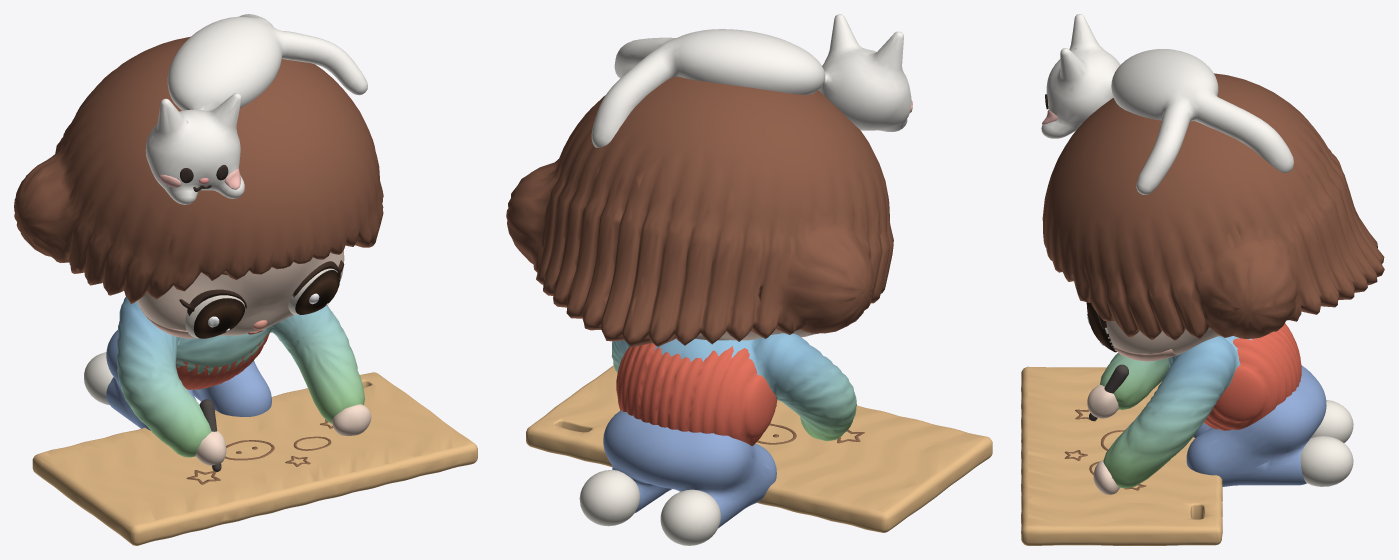
Rendered from reminiscence_roblox.glb.
The picture shows the model from 3 angles, left to right: view 1: azimuth 30°, elevation 25°; view 2: azimuth 150°, elevation 25°; view 3: azimuth 270°, elevation 25°; orthographic projection. The views are drawn at different scales.
Visible parts, largest first — view 1: Reminiscence_Hair, Reminiscence_Board, Reminiscence_Cat, Reminiscence_Sweater, Reminiscence_Head, Reminiscence_Pants, Reminiscence_Iris, Reminiscence_Hands, Reminiscence_Vest, Reminiscence_Shoes, Reminiscence_Lash, Reminiscence_Doodles (+1 smaller); view 2: Reminiscence_Hair, Reminiscence_Board, Reminiscence_Cat, Reminiscence_Vest, Reminiscence_Pants, Reminiscence_Sweater, Reminiscence_Shoes; view 3: Reminiscence_Hair, Reminiscence_Board, Reminiscence_Cat, Reminiscence_Sweater, Reminiscence_Pants, Reminiscence_Vest, Reminiscence_Shoes, Reminiscence_Head, Reminiscence_Hands, Reminiscence_Iris, Reminiscence_Crayon, Reminiscence_Blush.
Boxes of the visible parts, <box> form: Reminiscence_Hair: <box>14,36,383,303</box>; Reminiscence_Board: <box>32,372,477,545</box>; Reminiscence_Cat: <box>145,14,367,204</box>; Reminiscence_Sweater: <box>116,297,364,457</box>; Reminiscence_Head: <box>136,250,344,335</box>; Reminiscence_Pants: <box>106,330,271,430</box>; Reminiscence_Iris: <box>193,270,339,338</box>; Reminiscence_Hands: <box>195,404,371,465</box>; Reminiscence_Vest: <box>119,321,269,389</box>; Reminiscence_Shoes: <box>84,352,113,404</box>; Reminiscence_Lash: <box>179,260,344,315</box>; Reminiscence_Doodles: <box>186,420,333,484</box>; Reminiscence_Hair: <box>506,76,893,346</box>; Reminiscence_Board: <box>526,365,992,532</box>; Reminiscence_Cat: <box>591,14,911,147</box>; Reminiscence_Vest: <box>616,343,777,445</box>; Reminiscence_Pants: <box>603,410,776,528</box>; Reminiscence_Sweater: <box>611,333,856,441</box>; Reminiscence_Shoes: <box>579,470,720,545</box>; Reminiscence_Hair: <box>1042,73,1384,340</box>; Reminiscence_Board: <box>1021,366,1222,545</box>; Reminiscence_Cat: <box>1041,14,1293,194</box>; Reminiscence_Sweater: <box>1100,336,1252,488</box>; Reminiscence_Pants: <box>1186,365,1326,486</box>; Reminiscence_Vest: <box>1204,323,1301,430</box>; Reminiscence_Shoes: <box>1300,400,1353,486</box>; Reminiscence_Head: <box>1106,321,1220,358</box>; Reminiscence_Hands: <box>1087,384,1119,494</box>; Reminiscence_Iris: <box>1086,302,1116,352</box>; Reminiscence_Crayon: <box>1089,364,1128,420</box>; Reminiscence_Blush: <box>1113,347,1175,361</box>.
Size of the model in its own units: 2.16 by 2.5 by 2.03.
22 materials, 22 textured.
